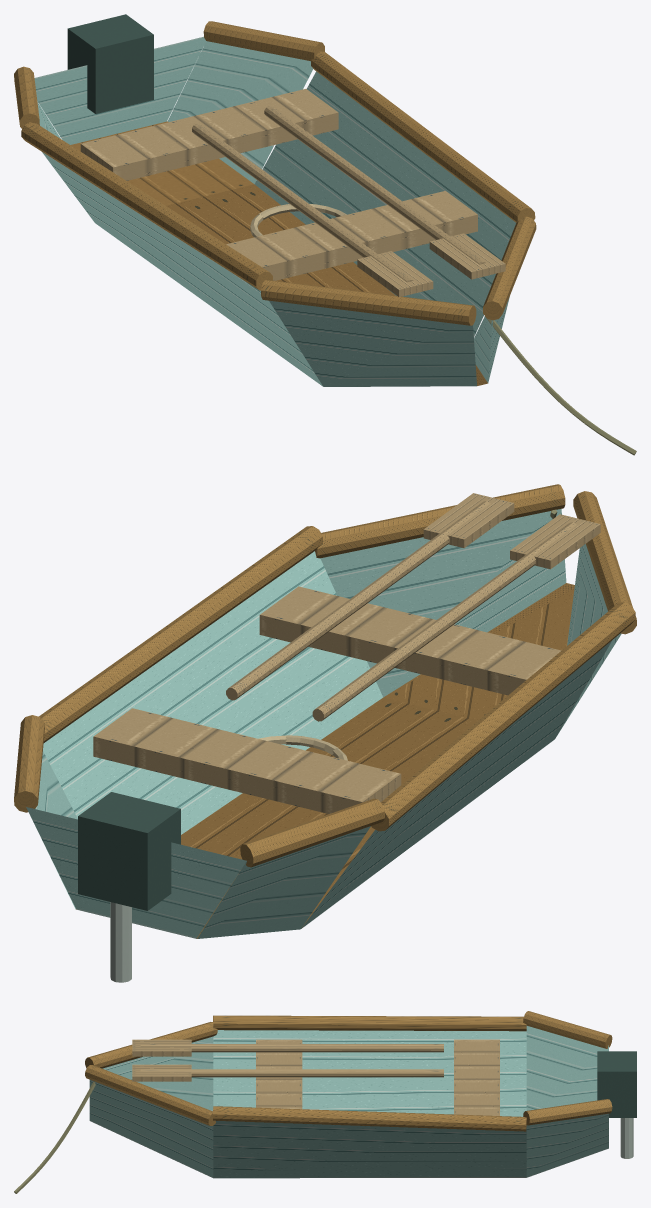
Rendered from fishing-boat.glb.
3 renders of one model, top to bottom at view 1: azimuth 30°, elevation 25°; view 2: azimuth 150°, elevation 25°; view 3: azimuth 270°, elevation 25°, orthographic. The views are drawn at different scales.
Parts seen in each view (by area): view 1: fishing-boat; view 2: fishing-boat; view 3: fishing-boat.
Boxes of the visible parts, left/top/right/bottom form: fishing-boat: left=14, top=14, right=636, bottom=455; fishing-boat: left=14, top=484, right=636, bottom=982; fishing-boat: left=14, top=1011, right=636, bottom=1193.
Bounding box in the file's own units: 1.53 × 0.6855 × 3.78.
1 material, 1 textured.
